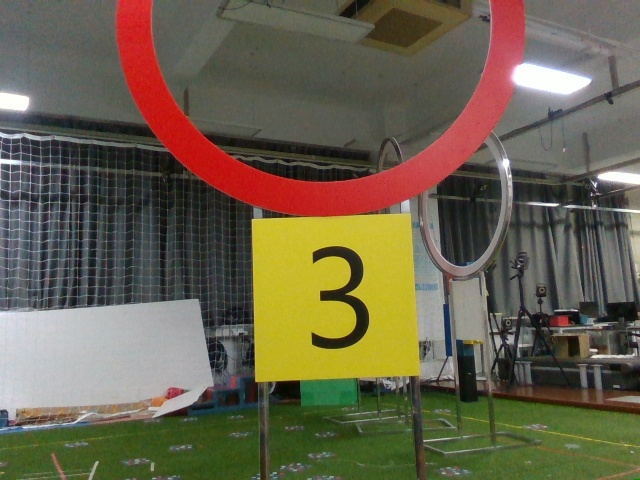target: (254, 219, 417, 376)
